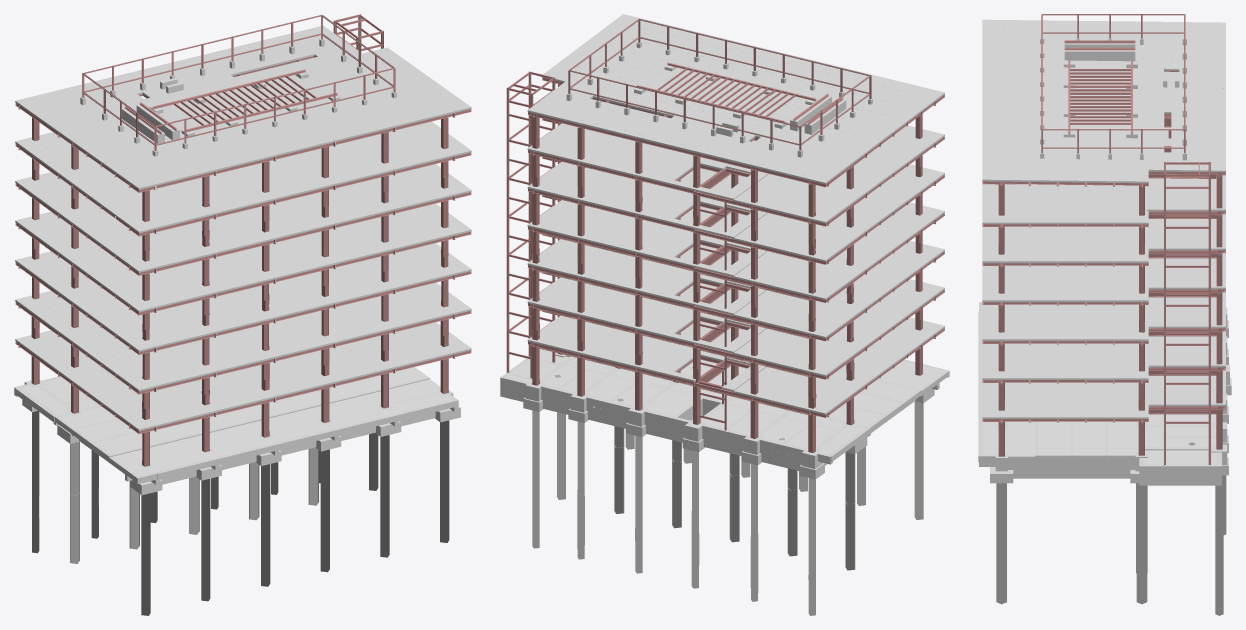
The picture shows the model from 3 angles, left to right: view 1: azimuth 30°, elevation 25°; view 2: azimuth 150°, elevation 25°; view 3: azimuth 270°, elevation 25°; orthographic projection. The views are drawn at different scales.
Visible parts, largest first — view 1: DS18(Fc24) (×119), S18(Fc21) (×10), φ1000 (×6), φ1100 (×5), φ800 (×2); view 2: DS18(Fc24) (×41), φ800 (×6), FG3 (×4), φ1100 (×5), S18(Fc21) (×3), φ1000, FG3A; view 3: DS18(Fc24) (×97), S18(Fc21) (×9), φ1000 (×4), FG11, FB200, φ800 (×2), F31A (×2).
Part boxes in pixels (x1,y1,x2,y2): DS18(Fc24) (×119): (36,40,454,426); S18(Fc21) (×10): (112,367,440,463); φ1000 (×6): (141,472,449,615); φ1100 (×5): (70,447,318,564); φ800 (×2): (32,459,98,553); DS18(Fc24) (×41): (536,25,918,405); φ800 (×6): (532,471,815,615); FG3 (×4): (586,396,805,467); φ1100 (×5): (614,445,855,570); S18(Fc21) (×3): (587,376,807,442); φ1000: (914,451,923,519); FG3A: (541,385,575,411); DS18(Fc24) (×97): (982,28,1219,409); S18(Fc21) (×9): (982,414,1216,464); φ1000 (×4): (996,483,1147,604); FG11: (1008,457,1135,478); FB200: (1144,465,1216,485); φ800 (×2): (1215,475,1223,615); F31A (×2): (1064,43,1135,61).
Bounding box in the file's own units: 36620 × 49550 × 23845.
